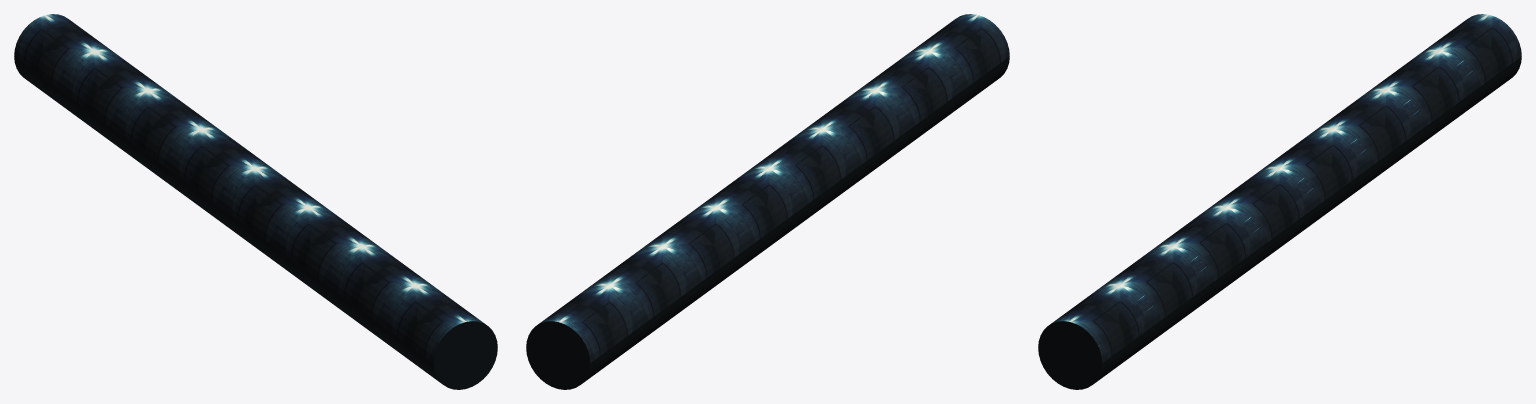
File: mundo.obj
3 views of the same model, side by side, from view 1: azimuth 30°, elevation 25°; view 2: azimuth 150°, elevation 25°; view 3: azimuth 330°, elevation 25° (orthographic).
Size of the model in its own units: 4.5 by 4.5 by 51.
